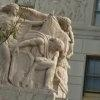Statue: (2, 2, 81, 95)
